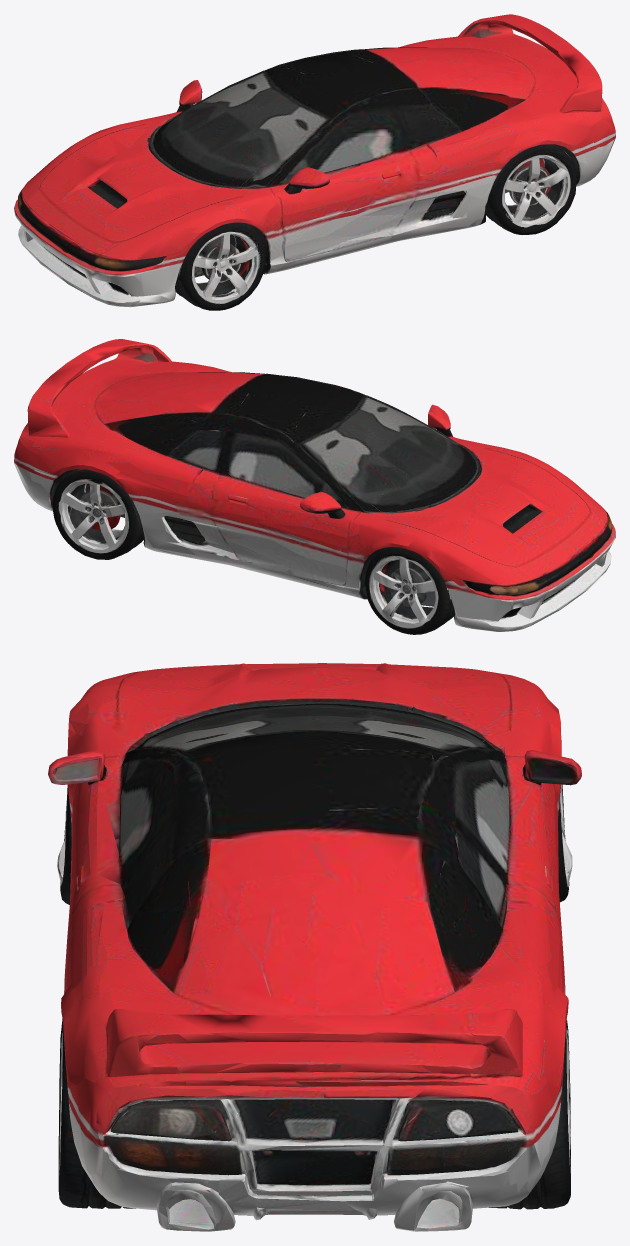
The model's file is car_sport.glb.
3 renders of one model, top to bottom at view 1: azimuth 30°, elevation 25°; view 2: azimuth 150°, elevation 25°; view 3: azimuth 270°, elevation 25°, orthographic. The views are drawn at different scales.
Parts seen in each view (by area): view 1: Mesh_0; view 2: Mesh_0; view 3: Mesh_0.
Boxes of the visible parts, left/top/right/bottom form: Mesh_0: left=14, top=14, right=615, bottom=310; Mesh_0: left=14, top=339, right=615, bottom=634; Mesh_0: left=48, top=663, right=581, bottom=1231.
Bounding box in the file's own units: 1.9 × 0.5187 × 0.8357.
1 material, 1 textured.
